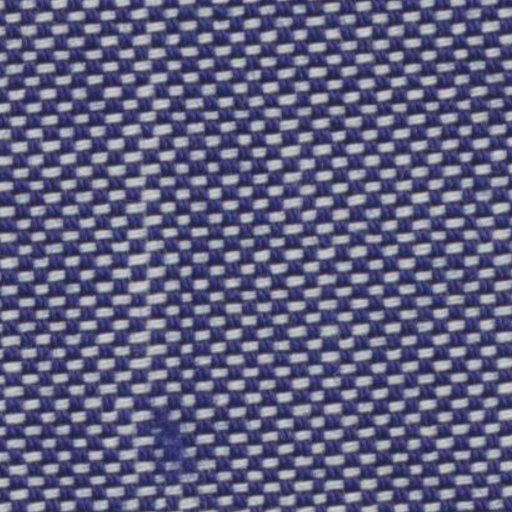TuoSha: (104, 11, 201, 502)
